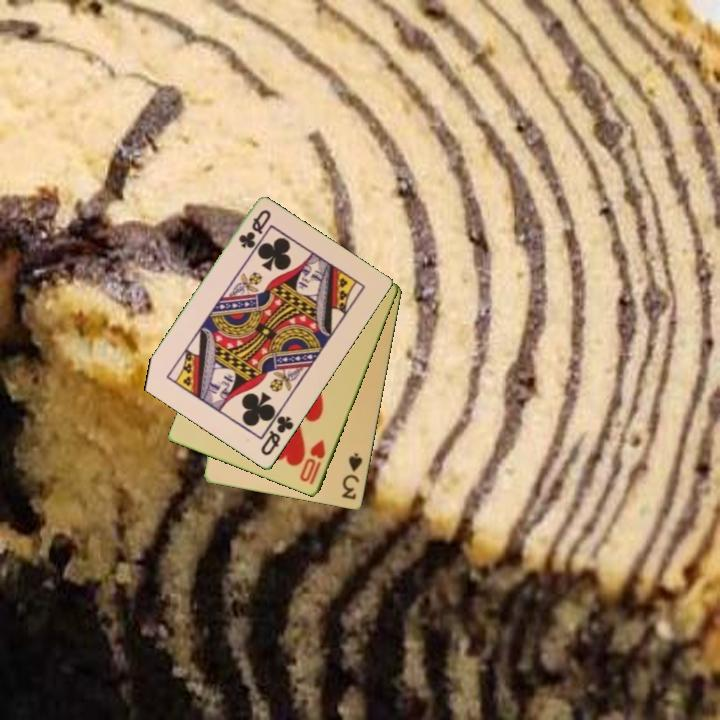10h: (296, 436, 328, 488)
3s: (339, 450, 366, 503)
Qc: (257, 407, 297, 459), (235, 206, 274, 252)
